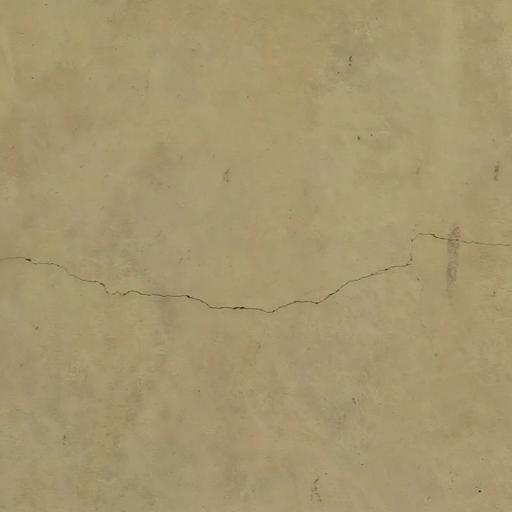minor_crack: (0, 227, 512, 324)
